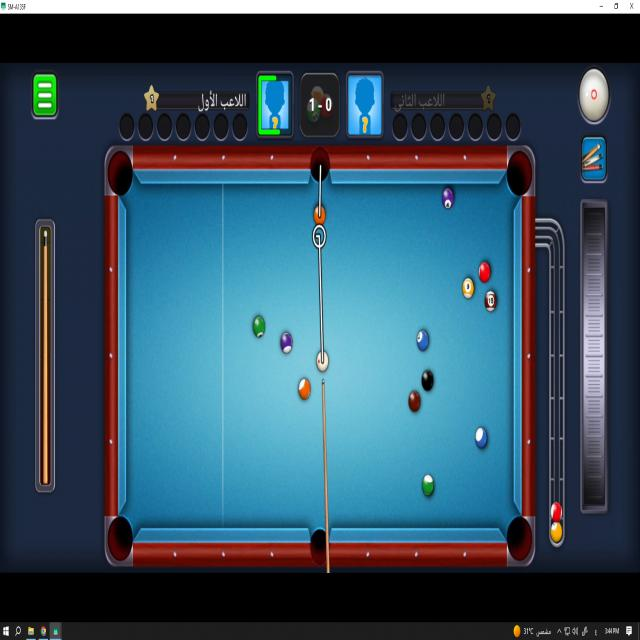object_ball: (417, 329, 429, 352), (479, 262, 490, 284), (422, 475, 434, 495), (442, 188, 453, 209), (422, 370, 433, 391), (299, 379, 310, 399), (485, 291, 496, 311), (281, 333, 292, 353), (409, 391, 420, 411), (476, 428, 487, 448), (254, 316, 264, 337), (463, 278, 473, 299), (314, 207, 325, 224)
white_cue_ball: (317, 352, 328, 372)
